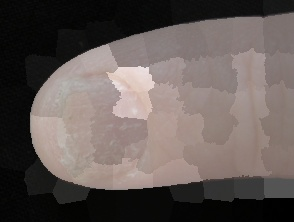Nail_psoriasis: (35, 60, 165, 192)
